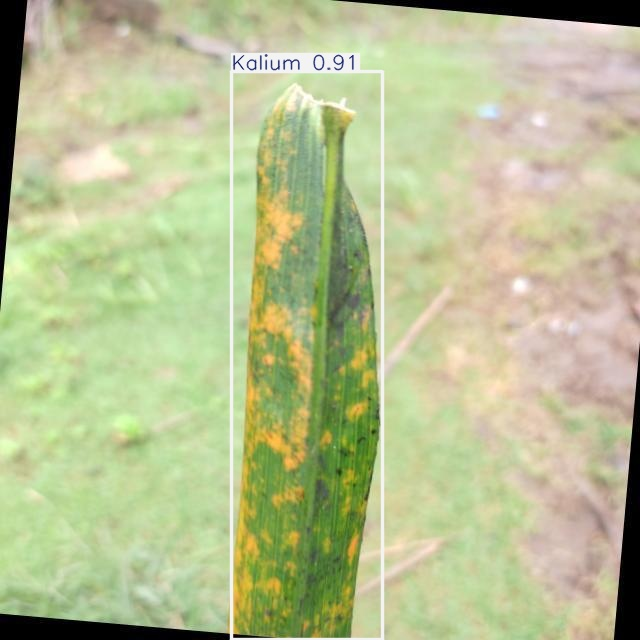Kalium: (232, 72, 382, 639)
